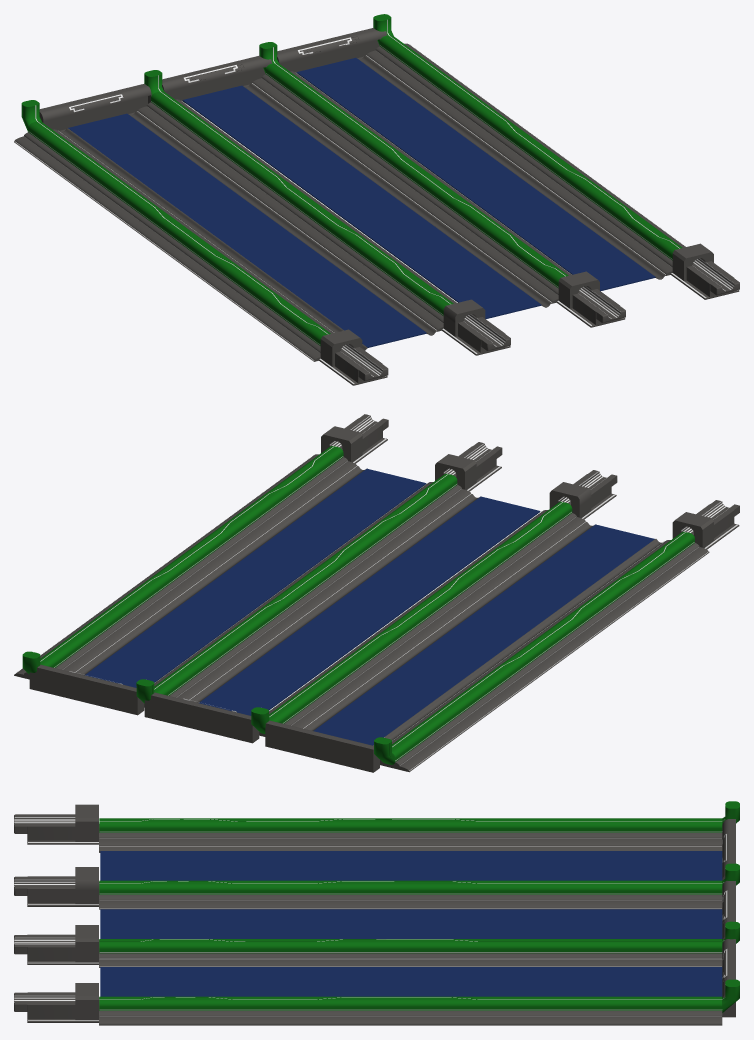
Rendered from BOWLING ARENA.fbx.
3 views of the same model, one above another, from view 1: azimuth 30°, elevation 25°; view 2: azimuth 150°, elevation 25°; view 3: azimuth 270°, elevation 25° (orthographic). The views are drawn at different scales.
Visible parts, largest first — view 1: Cube.053, Cube.055, Cube.099, Cube.069, Cube.084, Cube.054, Cube.068, Cube.098, Cube.083, Cube.085, Cube.070, Cube.062 (+6 smaller); view 2: Cube.053, Cube.055, Cube.099, Cube.069, Cube.054, Cube.084, Cube.068, Cube.083, Cube.098, Cube.062, Cube.080, Cube.095 (+7 smaller); view 3: Cube.053, Cube.069, Cube.055, Cube.098, Cube.054, Cube.068, Cube.083, Cube.099, Cube.084, Cube.091, Cube.106, Cube.065 (+18 smaller).
Part boxes in pixels (x1,y1,x2,y2): Cube.053: (68,57,655,347); Cube.055: (14,128,367,361); Cube.099: (357,43,685,279); Cube.069: (137,99,510,355); Cube.084: (252,71,571,303); Cube.054: (21,100,330,345); Cube.068: (144,70,453,315); Cube.098: (373,14,682,260); Cube.083: (259,42,568,288); Cube.085: (243,83,551,307); Cube.070: (128,111,436,335); Cube.062: (39,83,151,131); Cube.053: (85,468,654,745); Cube.055: (373,539,709,772); Cube.099: (14,454,367,679); Cube.069: (259,470,617,736); Cube.054: (374,531,694,764); Cube.084: (144,482,470,707); Cube.068: (251,501,572,733); Cube.083: (136,473,457,703); Cube.098: (22,446,343,674); Cube.062: (265,720,379,772); Cube.080: (144,692,259,743); Cube.095: (29,664,144,715); Cube.053: (100,851,722,996); Cube.069: (14,867,722,909); Cube.055: (99,824,722,852); Cube.098: (99,979,739,1012); Cube.054: (99,801,739,832); Cube.068: (99,863,739,894); Cube.083: (99,921,739,953); Cube.099: (99,997,722,1025); Cube.084: (99,944,722,967); Cube.091: (14,925,98,964); Cube.106: (14,983,98,1022); Cube.065: (14,804,98,844).
Bounding box in the file's own units: 2837 × 225 × 4340.
